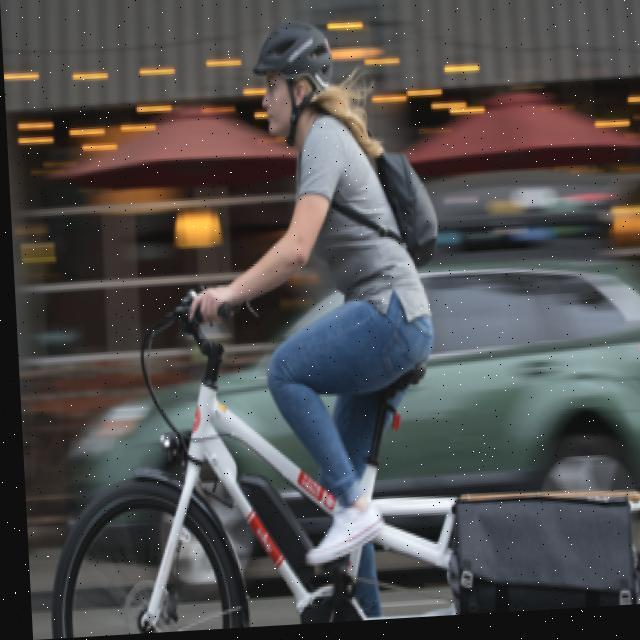Helmet: (250, 15, 344, 150)
